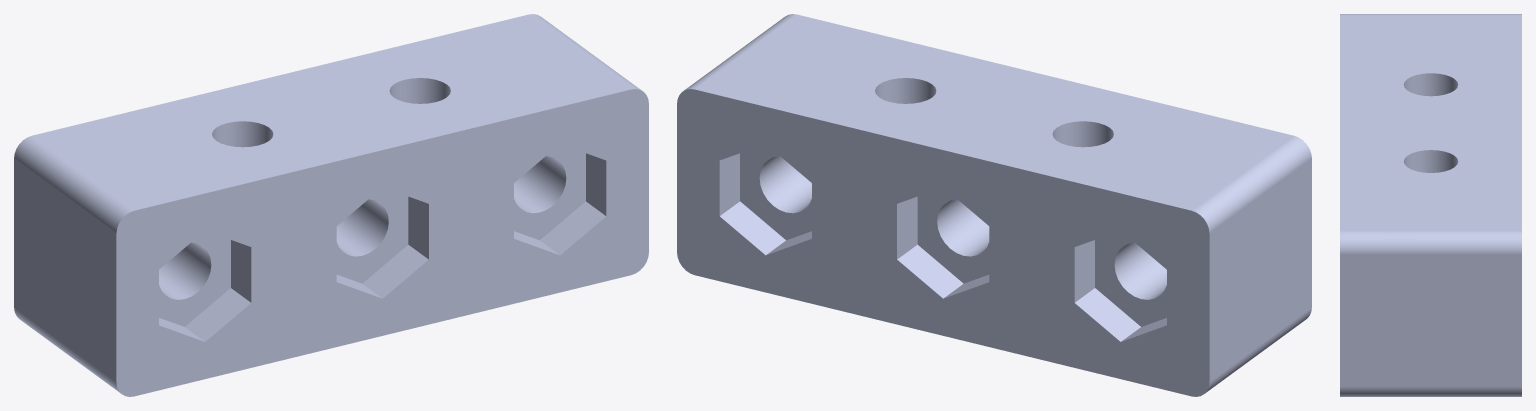
3 renders of one model, left to right at view 1: azimuth 30°, elevation 25°; view 2: azimuth 150°, elevation 25°; view 3: azimuth 270°, elevation 25°, orthographic. The views are drawn at different scales.
Parts seen in each view (by area): view 1: I3; view 2: I3; view 3: I3.
Boxes of the visible parts, x1=… form: I3: x1=14, y1=14, x2=648, y2=396; I3: x1=677, y1=14, x2=1311, y2=396; I3: x1=1340, y1=14, x2=1521, y2=396.
Size of the model in its own units: 0.03 by 0.01 by 0.01.
